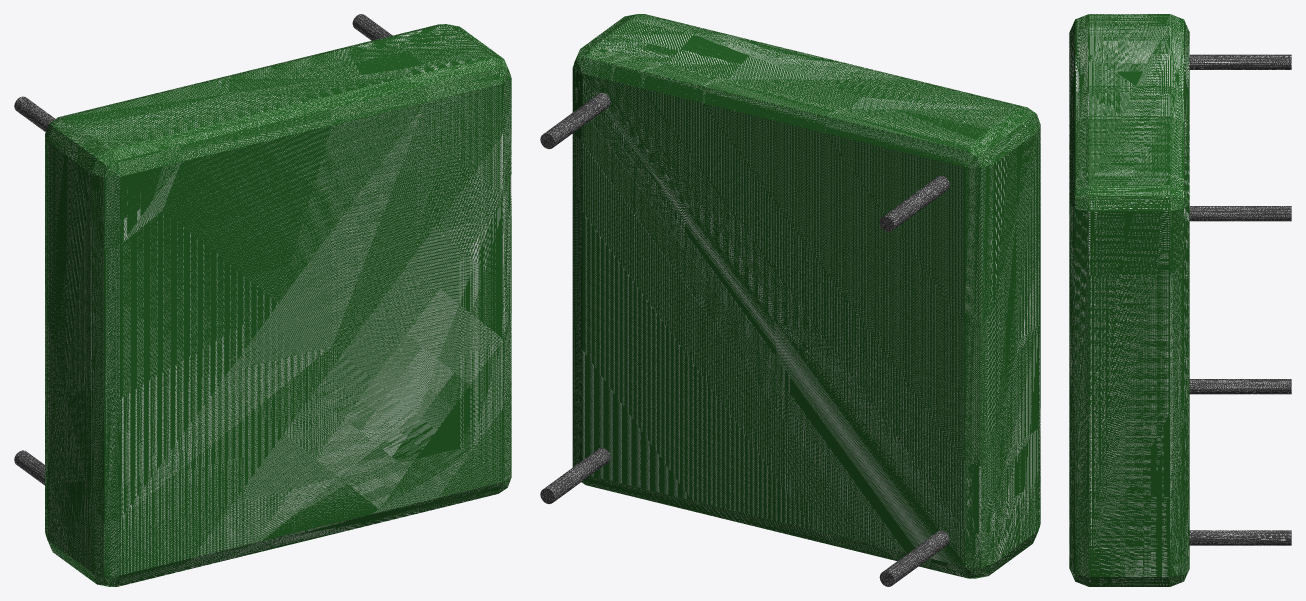
The picture shows the model from 3 angles, left to right: view 1: azimuth 30°, elevation 25°; view 2: azimuth 150°, elevation 25°; view 3: azimuth 270°, elevation 25°; orthographic projection. The views are drawn at different scales.
Parts seen in each view (by area): view 1: stool; view 2: stool; view 3: stool.
Part boxes in pixels (<box>): stool: <box>14,14,511,586</box>; stool: <box>540,14,1040,586</box>; stool: <box>1069,14,1291,586</box>.
Size of the model in its own units: 2184 by 2184 by 1096.
